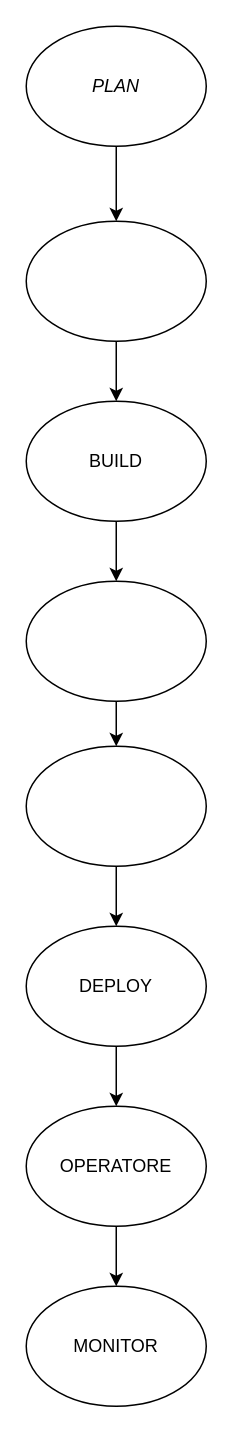
Some shapes in this 233 by 1433 pixel diagram are drawn without their labels. The shapes that lost their labels are listed below. From the top down, each one's centre as x and y in pixels, then its label:
At point 115,280: "DEVELOP".
At point 115,640: "TEST".
At point 115,805: "RELEASE".
